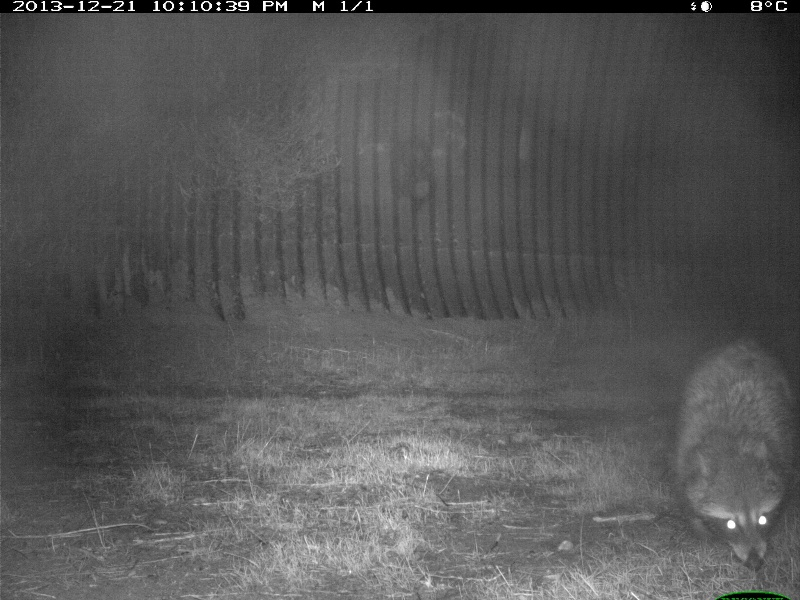raccoon: (669, 337, 798, 575)
